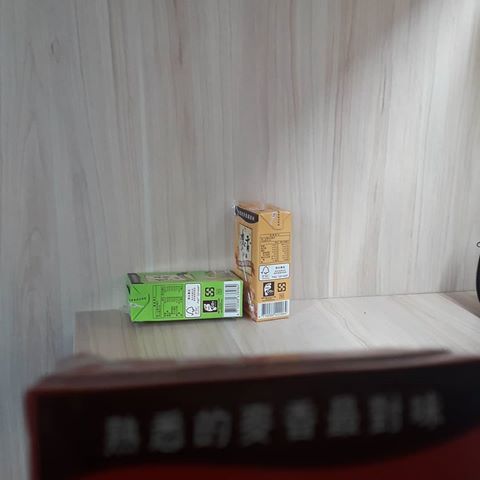milk tea: (235, 202, 290, 323)
